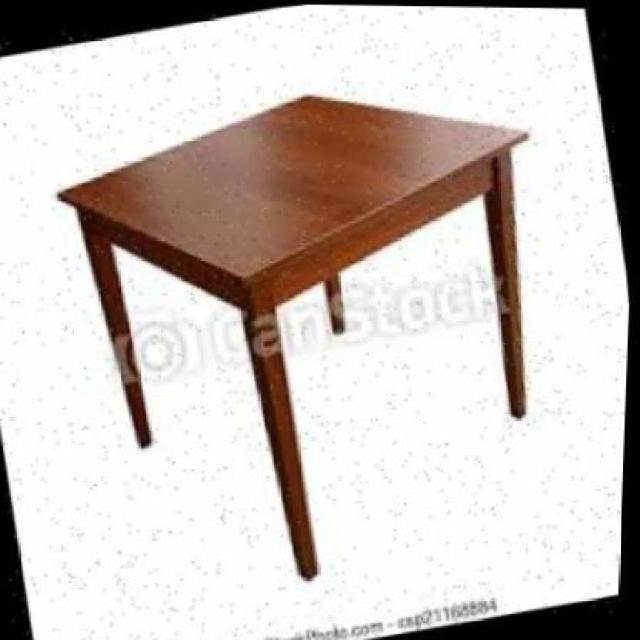tables: (55, 91, 531, 580)
